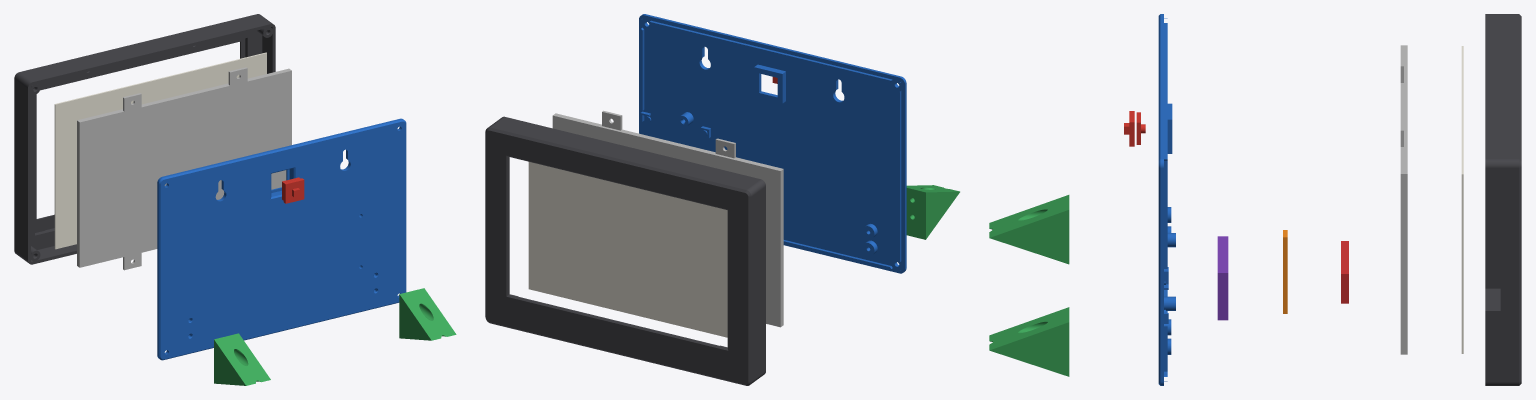
The model's file is assembly_exploded.obj.
The picture shows the model from 3 angles, left to right: view 1: azimuth 30°, elevation 25°; view 2: azimuth 150°, elevation 25°; view 3: azimuth 270°, elevation 25°; orthographic projection. The views are drawn at different scales.
Parts seen in each view (by area): view 1: back_cover, backer, frame, ref_panel, foot_2, foot_1, ref_key_switch; view 2: back_cover, frame, ref_panel, backer, foot_1; view 3: frame, back_cover, foot_2, foot_1, backer, ref_esp32, ref_panel, ref_adapter, ref_key_switch.
Part boxes in pixels (x1,y1,x2,y2): back_cover: [157, 118, 406, 360]; backer: [77, 67, 291, 270]; frame: [14, 14, 275, 264]; ref_panel: [54, 52, 266, 249]; foot_2: [399, 288, 456, 340]; foot_1: [214, 333, 270, 385]; ref_key_switch: [282, 177, 304, 203]; back_cover: [639, 14, 906, 273]; frame: [485, 116, 765, 385]; ref_panel: [528, 162, 727, 337]; backer: [552, 110, 783, 327]; foot_1: [906, 185, 959, 239]; frame: [1485, 14, 1521, 385]; back_cover: [1158, 14, 1175, 385]; foot_2: [989, 307, 1069, 376]; foot_1: [989, 195, 1069, 264]; backer: [1400, 45, 1407, 354]; ref_esp32: [1217, 236, 1228, 320]; ref_panel: [1461, 46, 1463, 353]; ref_adapter: [1341, 241, 1348, 303]; ref_key_switch: [1124, 111, 1145, 146].
Size of the model in its own units: 199 by 140 by 298.
